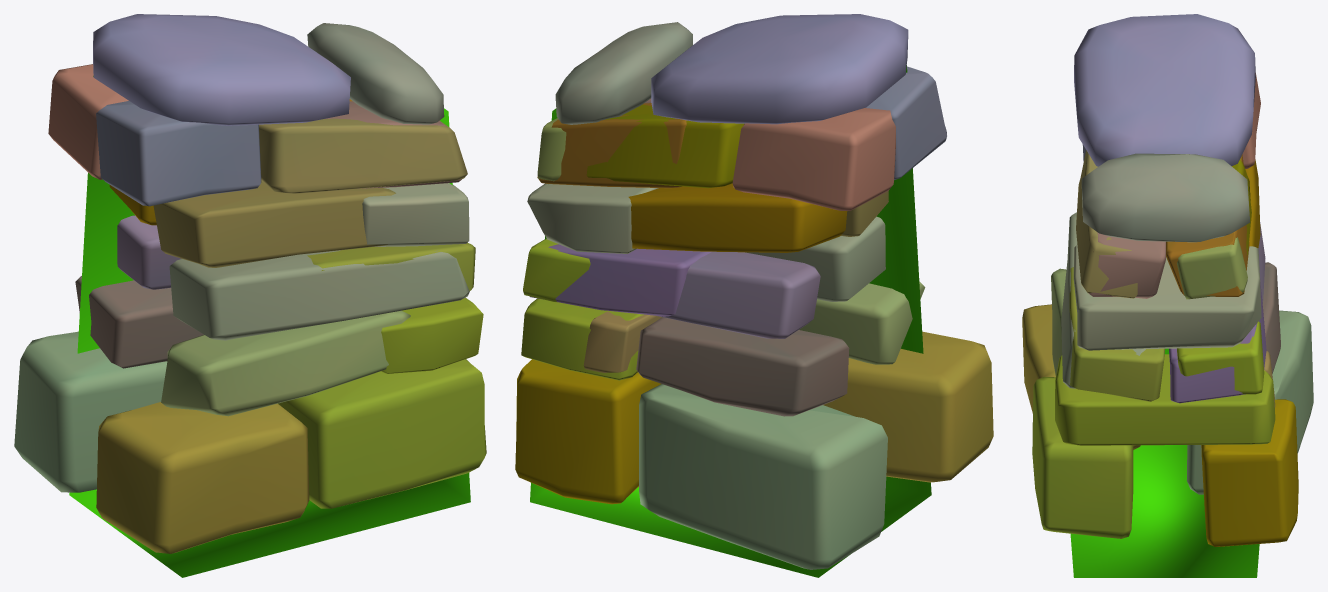
The model's file is SM_Prop_wall_end_13.glb.
The picture shows the model from 3 angles, left to right: view 1: azimuth 30°, elevation 25°; view 2: azimuth 150°, elevation 25°; view 3: azimuth 270°, elevation 25°; orthographic projection. The views are drawn at different scales.
Visible parts, largest first — view 1: SM_Prop_wall_end_13; view 2: SM_Prop_wall_end_13; view 3: SM_Prop_wall_end_13.
Boxes of the visible parts, x1,y1,x2,y2 form: SM_Prop_wall_end_13: (14,14,486,577); SM_Prop_wall_end_13: (515,14,993,577); SM_Prop_wall_end_13: (1022,14,1313,577).
Bounding box in the file's own units: 1.17 × 1.53 × 0.9197.
